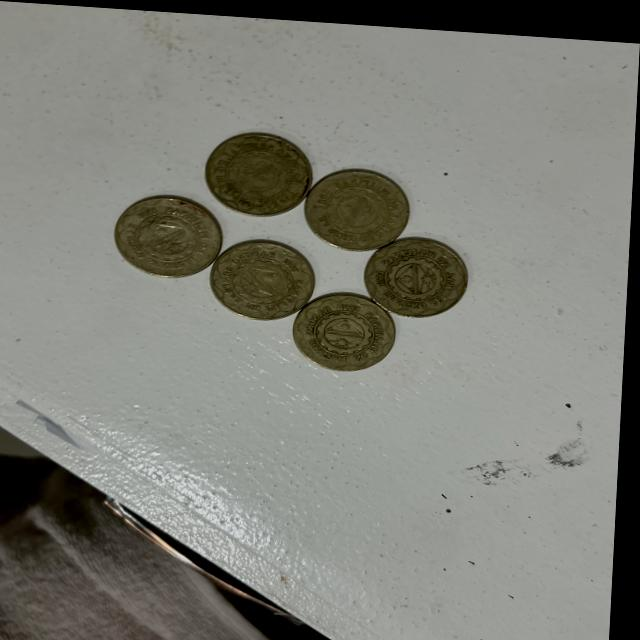5_Old_Back: (359, 218, 479, 313), (112, 183, 227, 279), (207, 123, 318, 214), (221, 228, 320, 327), (309, 162, 416, 247), (294, 277, 401, 362)
